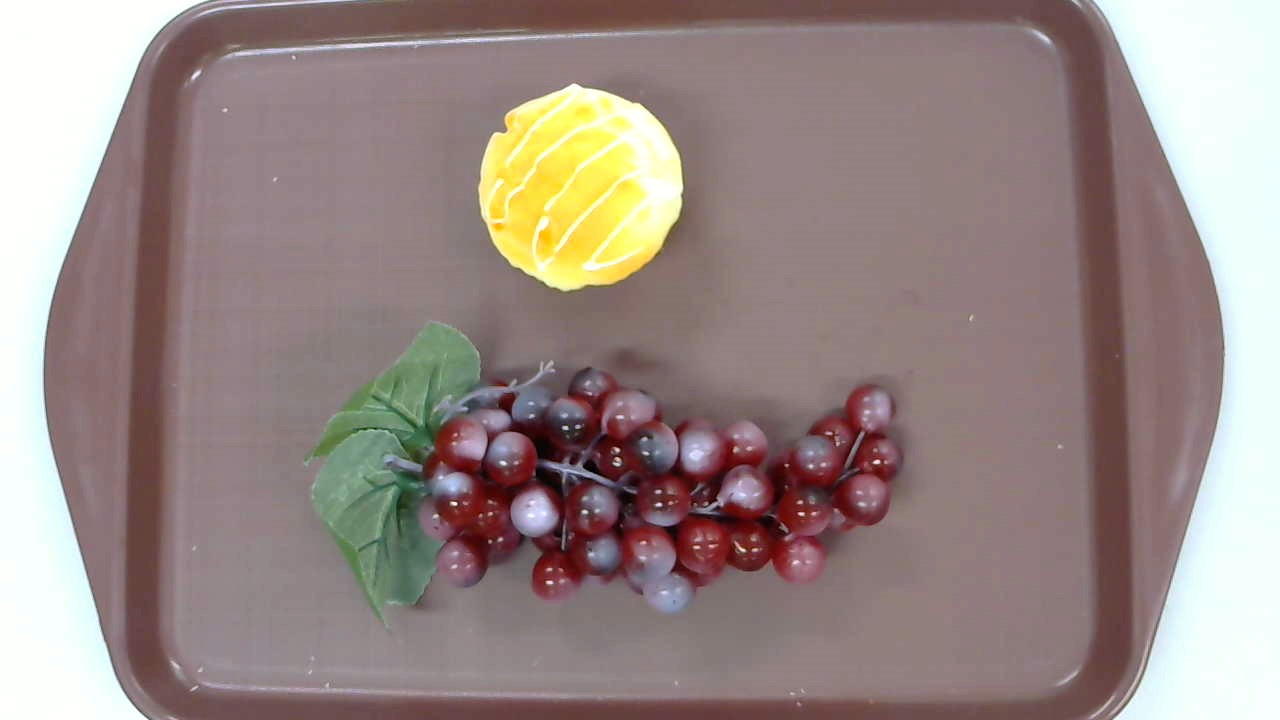cupcake: (479, 82, 683, 294)
grape: (302, 319, 904, 629)
